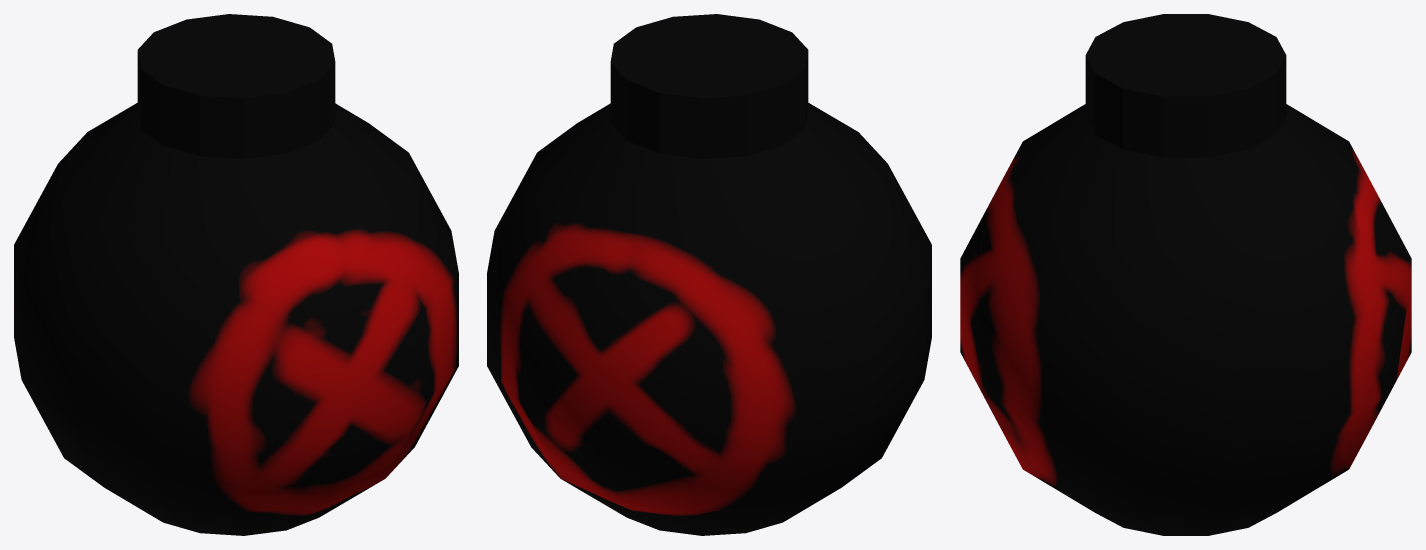
Rendered from boom.FBX.
3 views of the same model, side by side, from view 1: azimuth 30°, elevation 25°; view 2: azimuth 150°, elevation 25°; view 3: azimuth 270°, elevation 25° (orthographic).
Visible parts, largest first — view 1: boom; view 2: boom; view 3: boom.
Boxes of the visible parts, x1,y1,x2,y2 form: boom: [14, 14, 458, 535]; boom: [487, 14, 931, 535]; boom: [960, 14, 1411, 535].
Bounding box in the file's own units: 37.12 × 42.81 × 38.07.
1 material, 1 textured.
